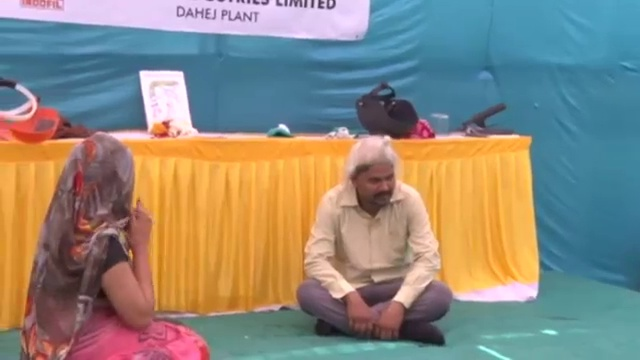helmet_off: (62, 133, 138, 217), (348, 143, 399, 210)
person: (20, 129, 209, 360), (295, 133, 454, 345)
